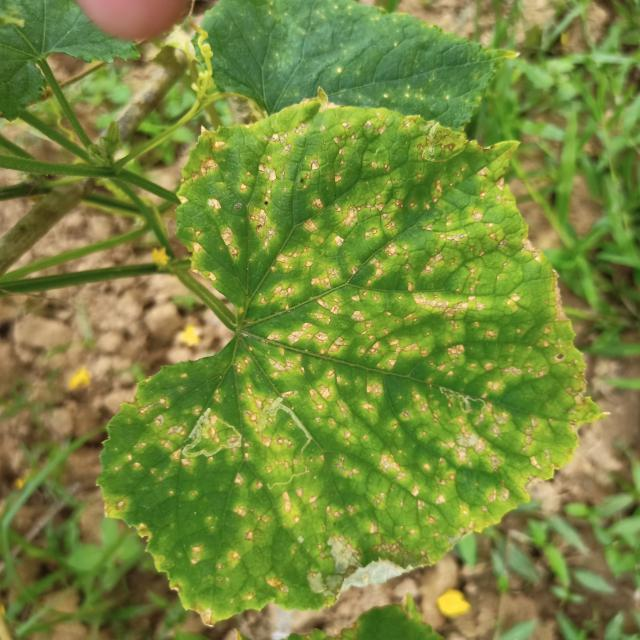disease_cucumber: (107, 119, 592, 608)
